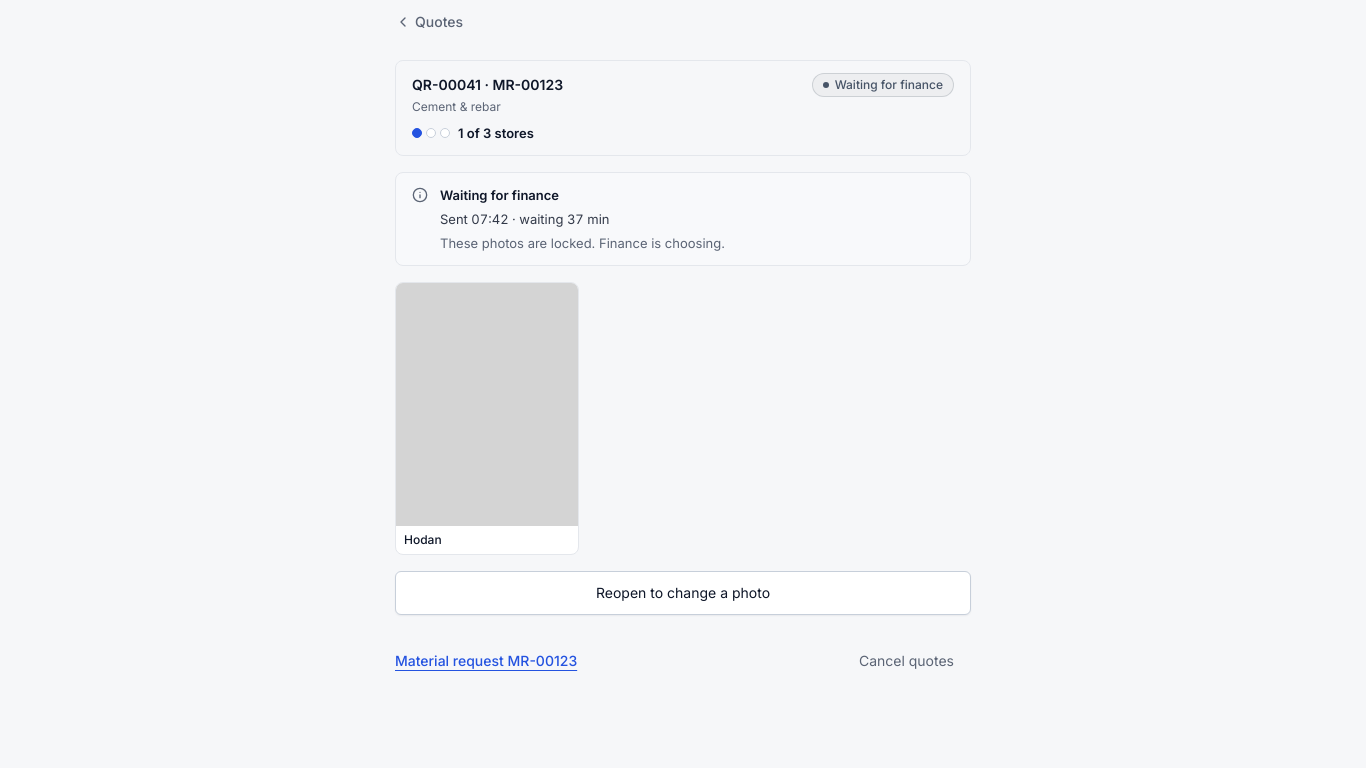
Test: QuoteCaptureScreen — after send › freezes the photos, shows the waiting time and offers reopen behind a confirm
expect the text "Waiting for finance" is shown: met, box top-left (440, 187), bottom-right (559, 203)
expect the text "Sent 07:42 · waiting 37 min" is shown: met, box top-left (440, 211), bottom-right (610, 227)
Click the button "Reopen to change a photo": (683, 593) top-left (395, 571), bottom-right (971, 615)
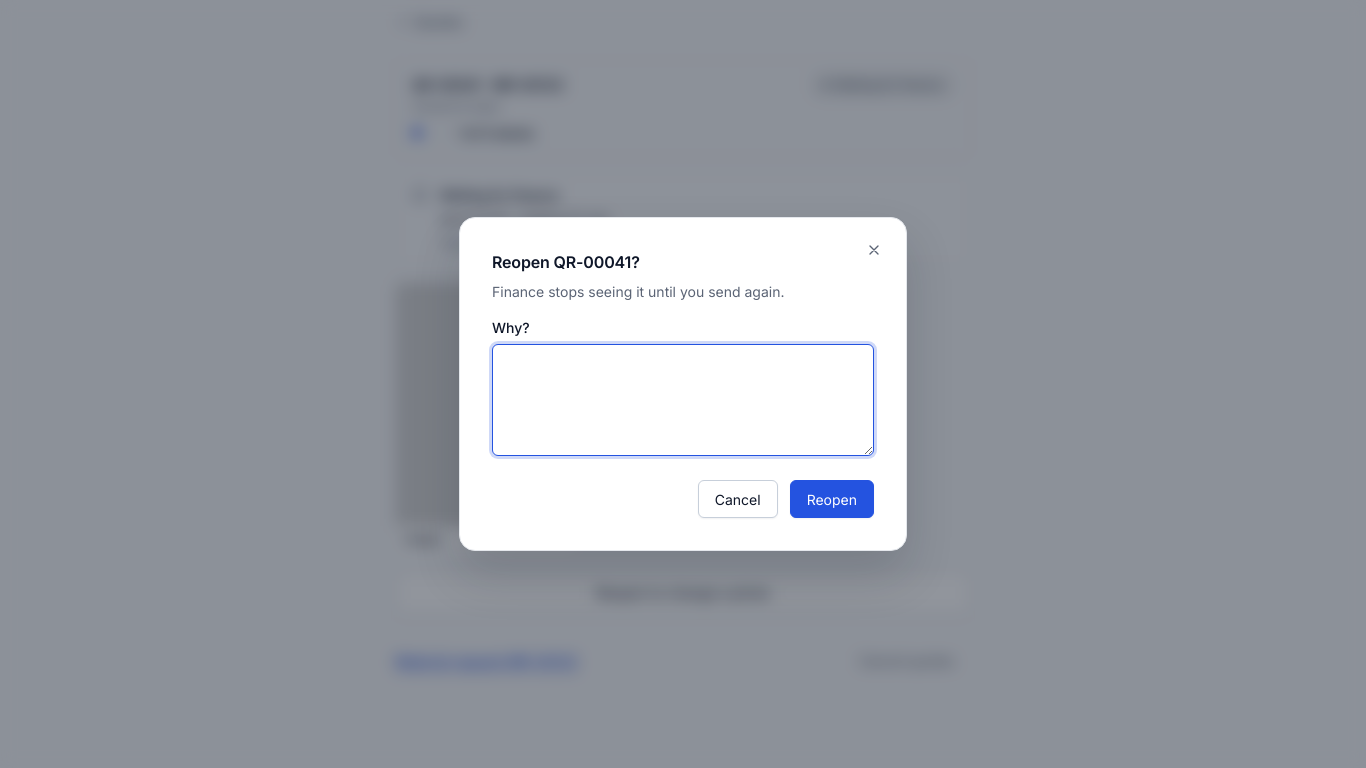
expect the dialog "Reopen QR-00041?" is shown: met, box top-left (459, 217), bottom-right (907, 551)
